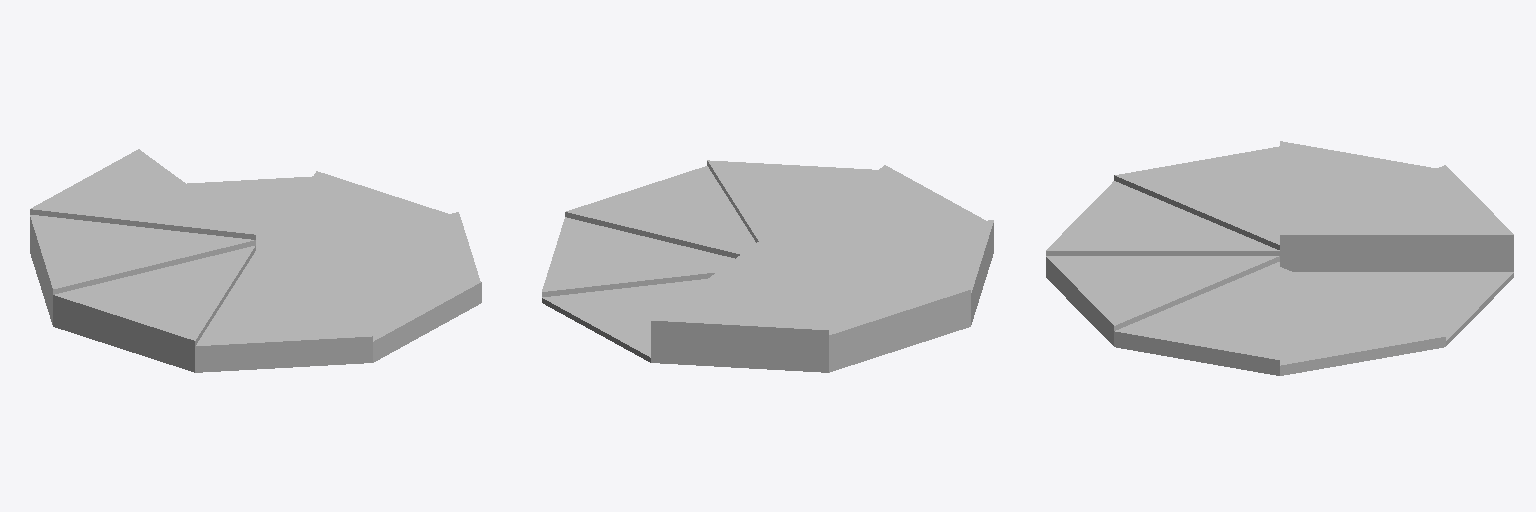
Rendered from spiral_ramp.obj.
3 views of the same model, side by side, from view 1: azimuth 30°, elevation 25°; view 2: azimuth 150°, elevation 25°; view 3: azimuth 270°, elevation 25° (orthographic).
Visible parts, largest first — view 1: Cylinder; view 2: Cylinder; view 3: Cylinder.
Part boxes in pixels (x1,y1,x2,y2): Cylinder: (30, 149, 481, 372); Cylinder: (542, 160, 993, 372); Cylinder: (1046, 141, 1513, 375).
Bounding box in the file's own units: 2 × 0.2 × 2.